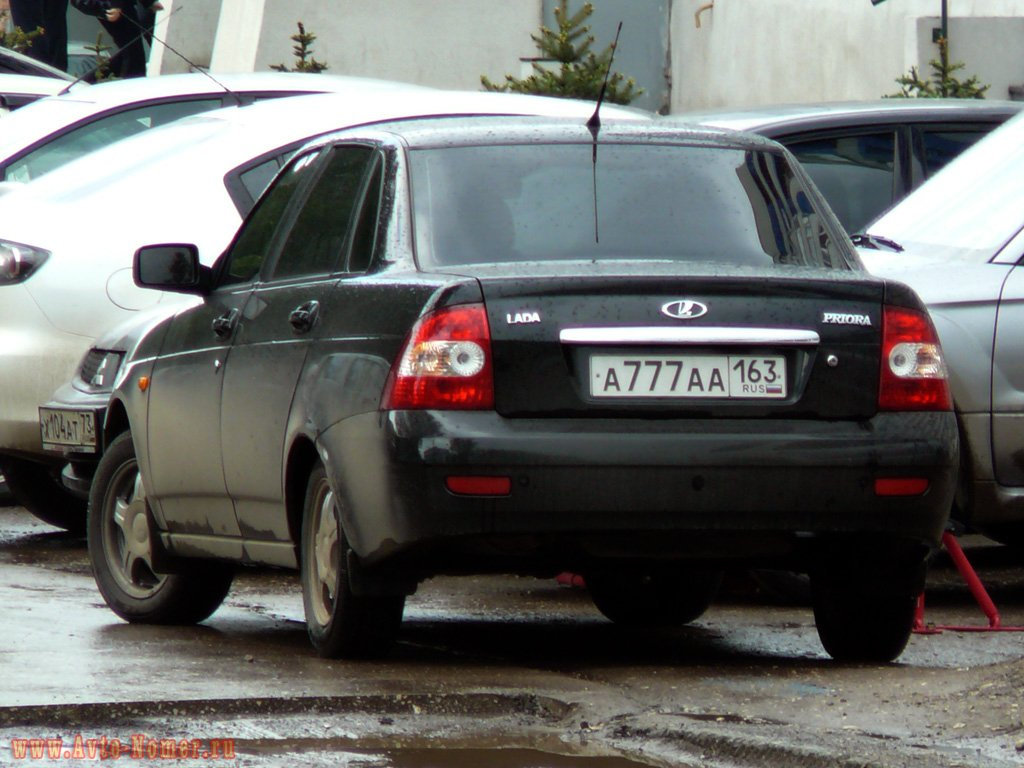number_plate: (580, 348, 800, 404)
